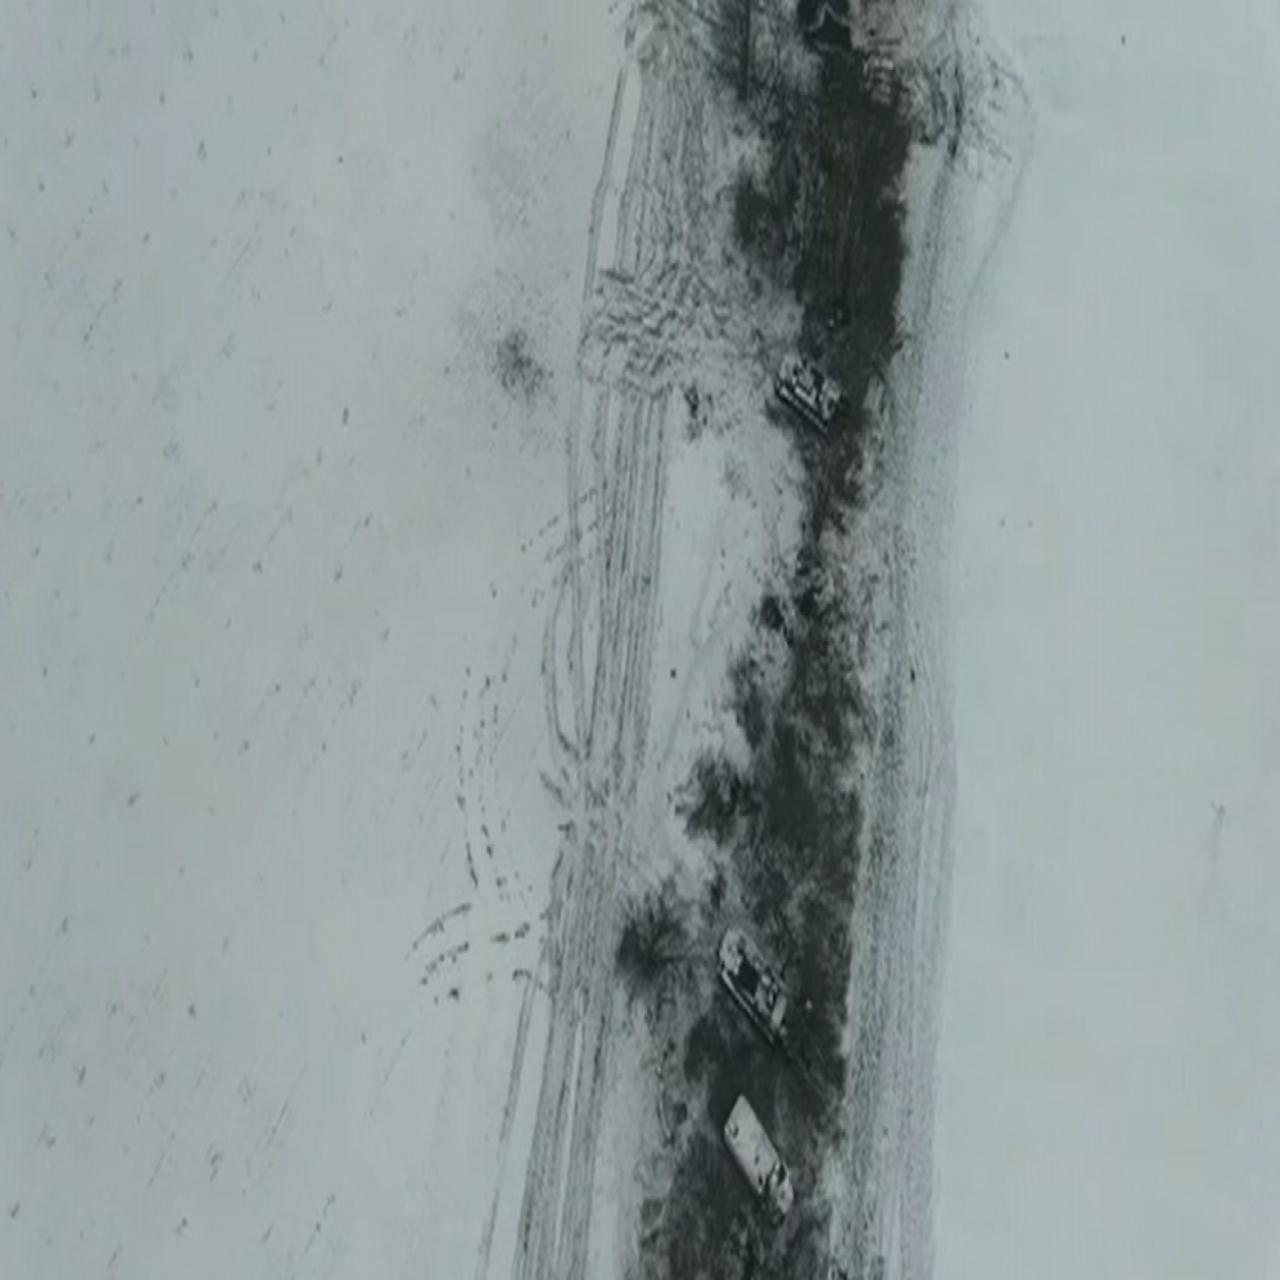MIL_Veh: (762, 344, 844, 438)
